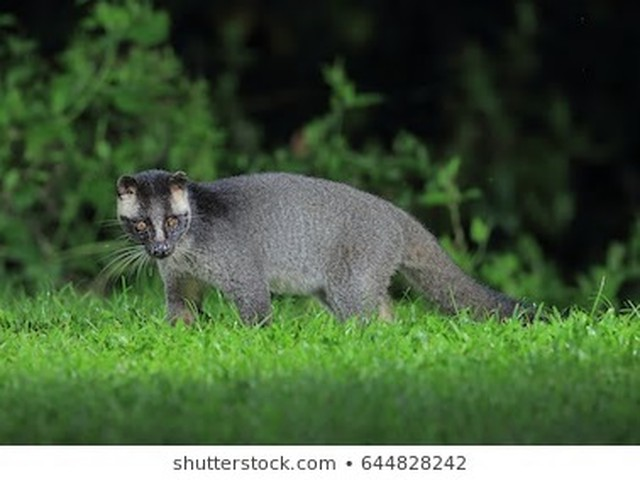civet: (114, 166, 523, 318)
